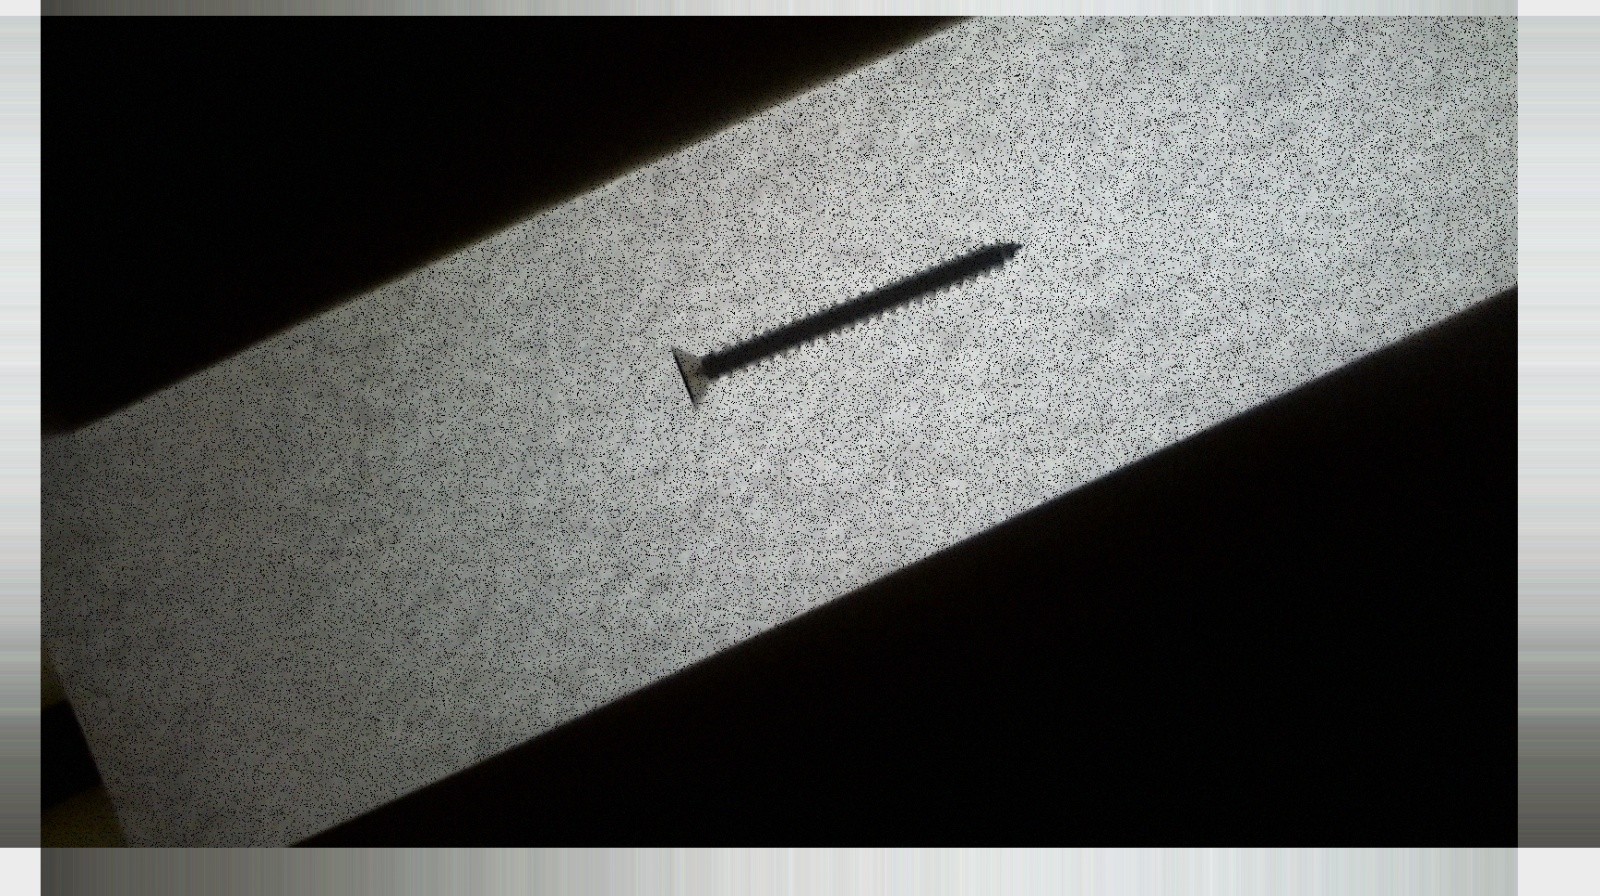S002: (656, 223, 1024, 413)
